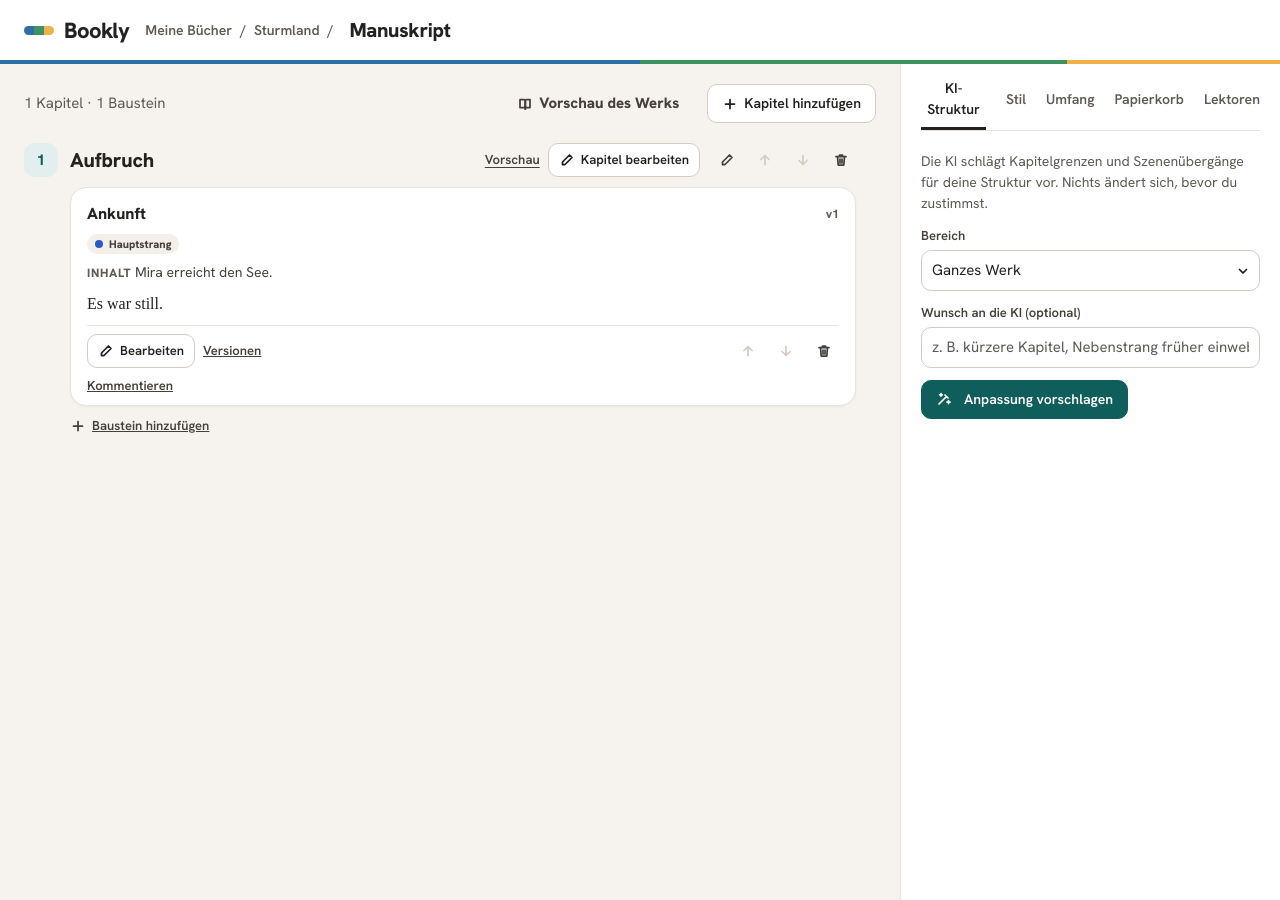
Test: ManuscriptPage › tells the user when the block got locked meanwhile
The image size is (1280, 900).
Step 1. Click the button "Bearbeiten" → coordinates (141, 351), box [87, 334, 195, 368]
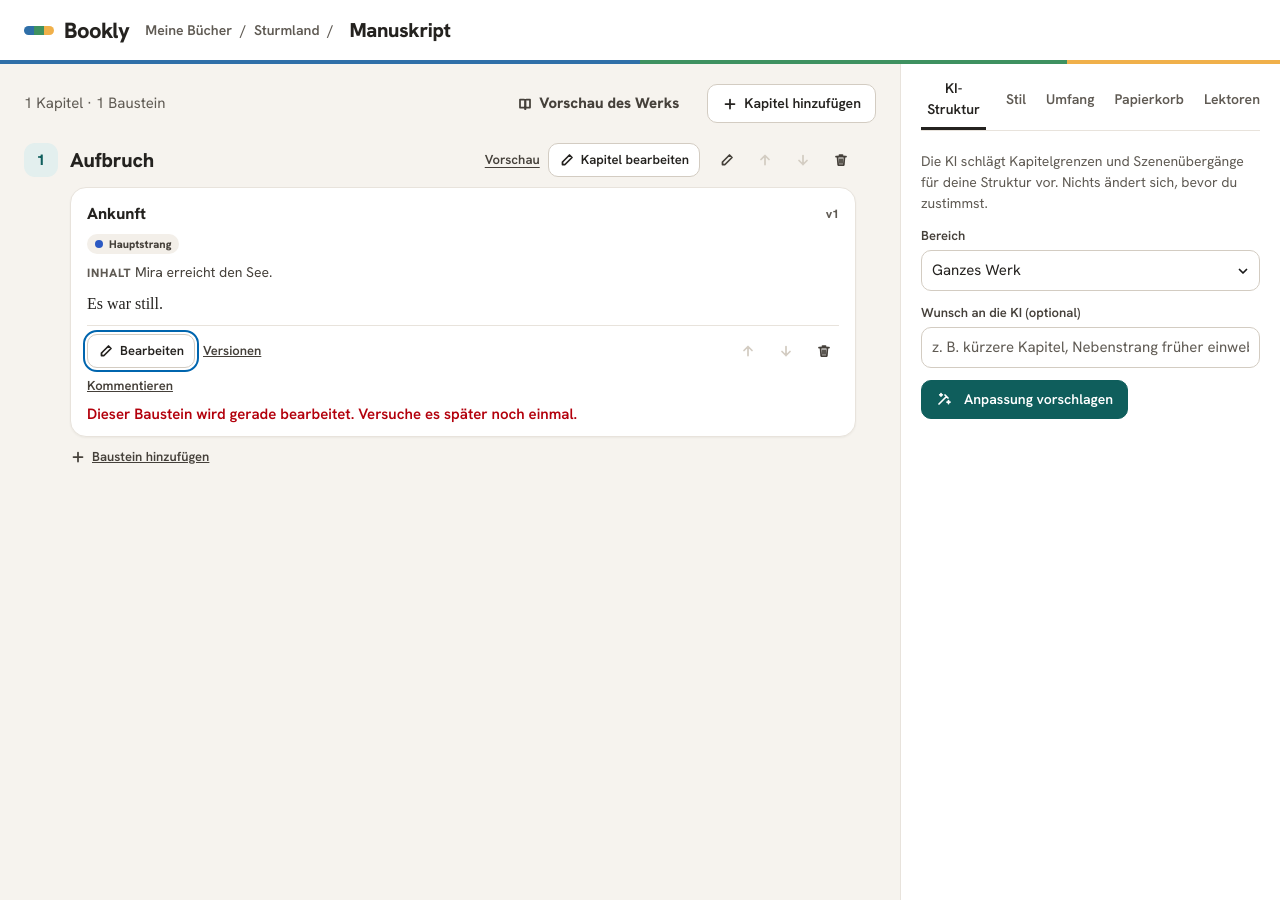
Now the message shows "Dieser Baustein wird gerade bearbeitet.", box [87, 404, 577, 424]
